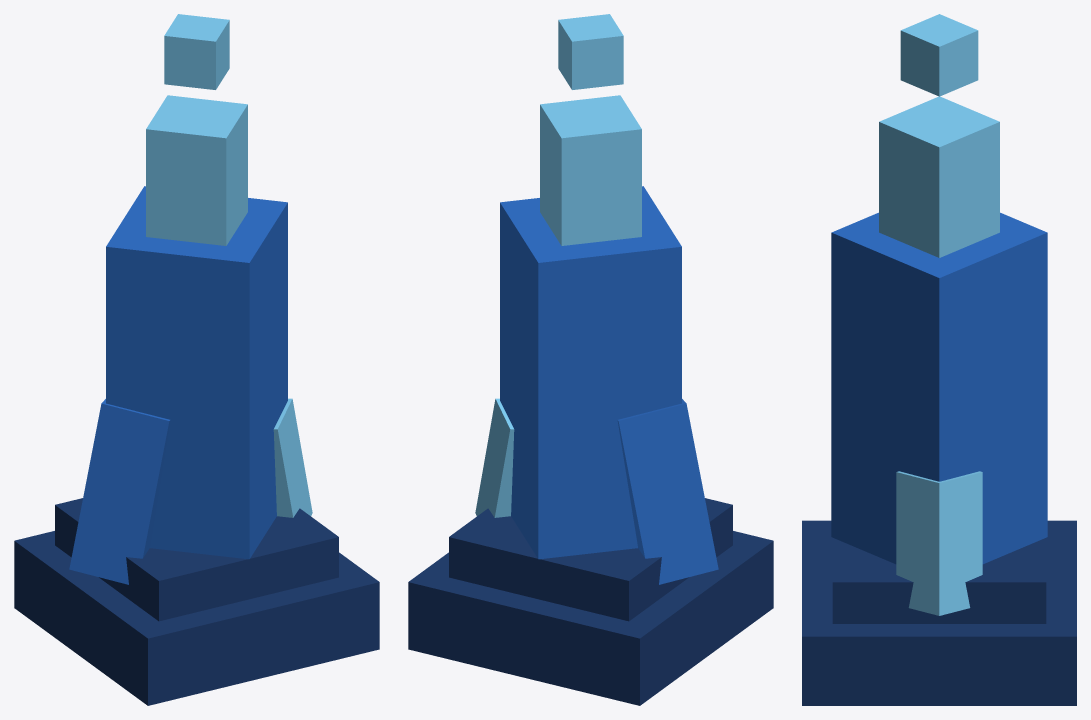
Rendered from water.gltf.
3 renders of one model, left to right at view 1: azimuth 30°, elevation 25°; view 2: azimuth 150°, elevation 25°; view 3: azimuth 270°, elevation 25°, orthographic. The views are drawn at different scales.
Visible parts, largest first — view 1: crystal_main, base_rock, pool_rim, crystal_tip, shard_l, droplet, shard_r; view 2: crystal_main, base_rock, pool_rim, crystal_tip, shard_l, droplet, shard_r; view 3: crystal_main, base_rock, crystal_tip, pool_rim, shard_r, droplet.
Boxes of the visible parts, <box> form: crystal_main: <box>106,186,287,559</box>; base_rock: <box>14,531,379,705</box>; pool_rim: <box>55,498,338,621</box>; crystal_tip: <box>146,95,247,245</box>; shard_l: <box>69,399,170,584</box>; droplet: <box>164,14,229,89</box>; shard_r: <box>273,398,312,517</box>; crystal_main: <box>500,186,681,559</box>; base_rock: <box>408,531,773,705</box>; pool_rim: <box>449,498,732,621</box>; crystal_tip: <box>540,95,641,245</box>; shard_l: <box>617,399,718,584</box>; droplet: <box>558,14,623,89</box>; shard_r: <box>475,398,514,517</box>; crystal_main: <box>831,212,1047,564</box>; base_rock: <box>802,520,1076,705</box>; crystal_tip: <box>879,96,999,257</box>; pool_rim: <box>832,538,1046,623</box>; shard_r: <box>896,471,982,615</box>; droplet: <box>900,14,978,96</box>.
Size of the model in its own units: 0.5912 by 1.39 by 0.5625.
3 materials, 3 textured.
